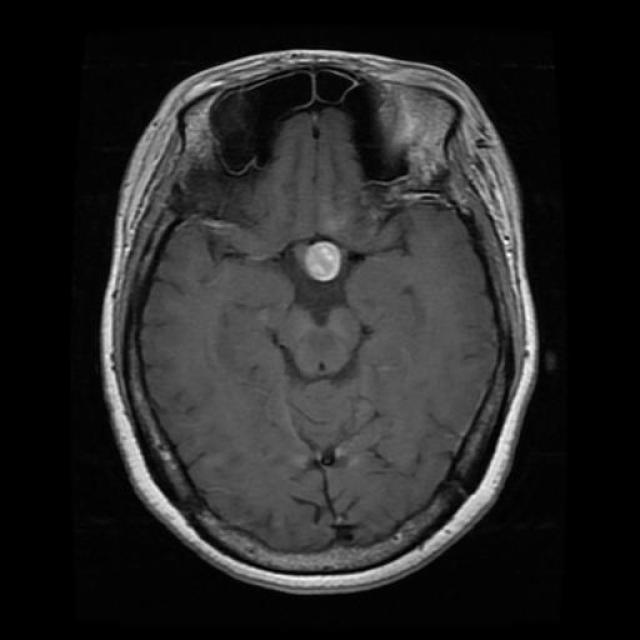pituitary: (262, 219, 362, 322)
